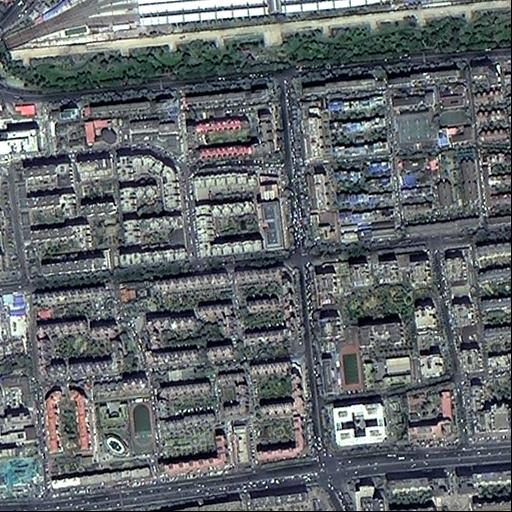school: (338, 342, 414, 396), (96, 399, 156, 455), (389, 85, 437, 145), (433, 80, 470, 126), (306, 208, 343, 248)
